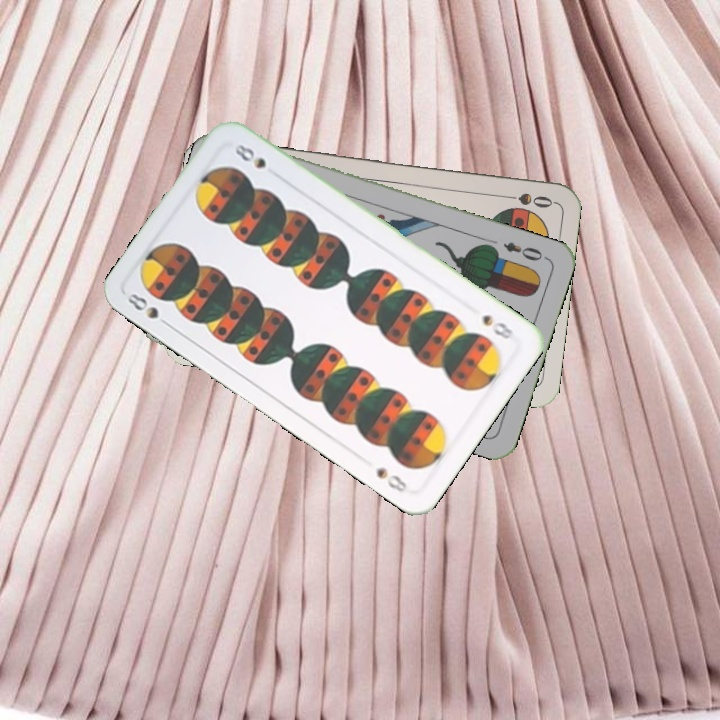EO: (499, 237, 550, 264)
S8: (123, 289, 175, 331), (478, 310, 517, 342)
SO: (496, 188, 555, 211)
